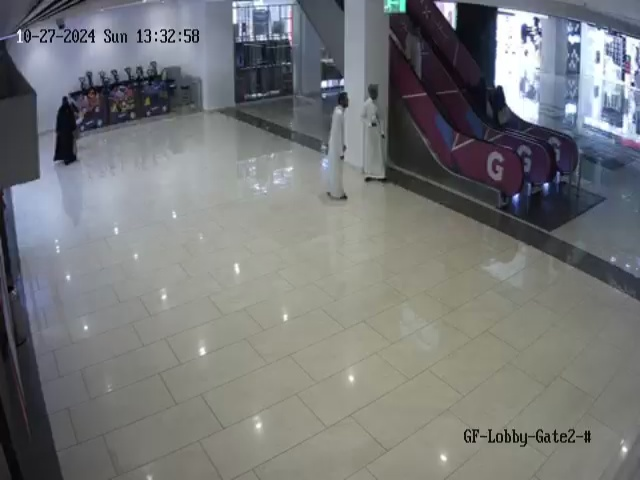female: (53, 96, 79, 166), (464, 69, 490, 127), (492, 76, 514, 136)
male: (360, 84, 387, 182), (325, 92, 349, 201), (403, 14, 428, 82)
